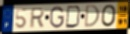5: (14, 8, 28, 29)
D: (83, 4, 101, 29), (65, 5, 82, 29)
G: (49, 6, 65, 29)
O: (101, 4, 117, 28)
R: (28, 8, 46, 30)
